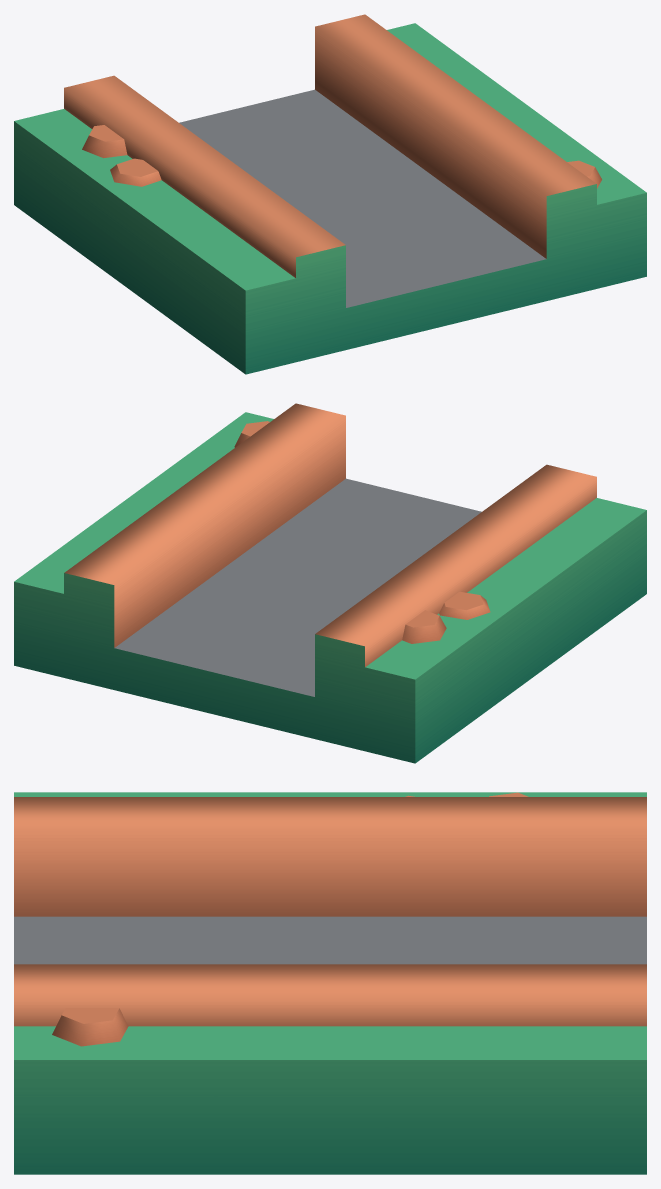
File: tile-river-straight.fbx
3 views of the same model, one above another, from view 1: azimuth 30°, elevation 25°; view 2: azimuth 150°, elevation 25°; view 3: azimuth 270°, elevation 25° (orthographic). The views are drawn at different scales.
Visible parts, largest first — view 1: tile-river-straight; view 2: tile-river-straight; view 3: tile-river-straight.
Part boxes in pixels (x1,y1,x2,y2): tile-river-straight: (14, 14, 646, 374); tile-river-straight: (14, 403, 646, 763); tile-river-straight: (14, 792, 646, 1174).
Size of the model in its own units: 100 by 25 by 100.
